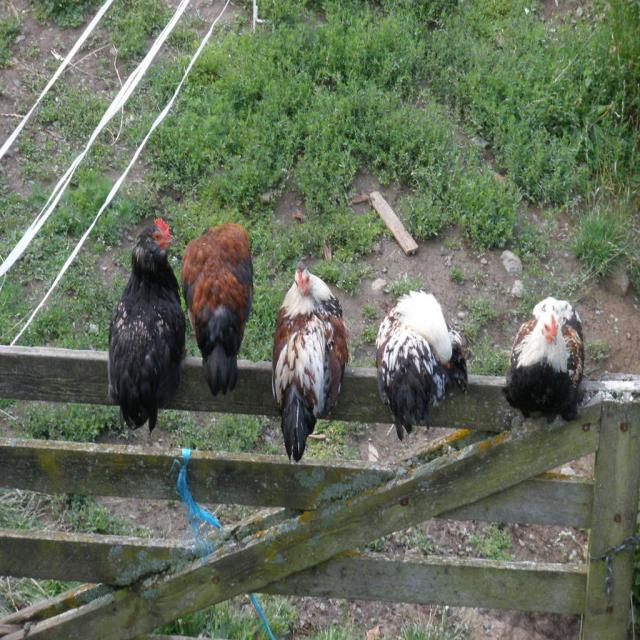Chicken: (270, 259, 354, 470), (371, 290, 478, 449), (104, 217, 183, 427), (176, 223, 258, 402), (510, 294, 590, 428)
